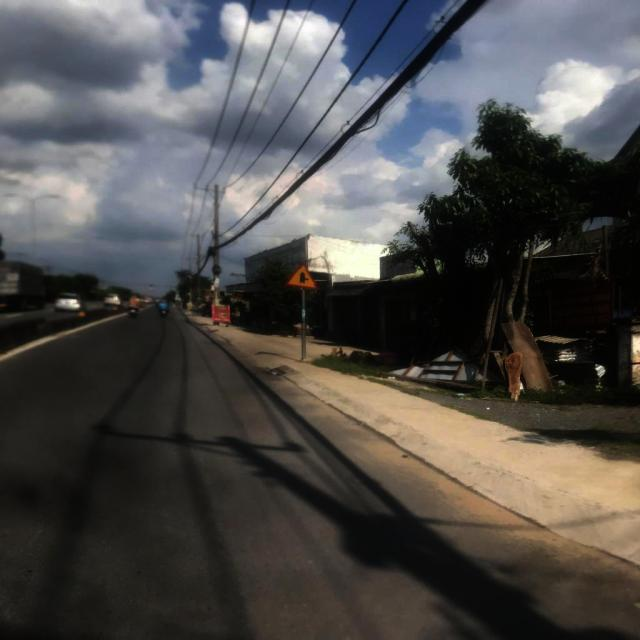giao_nhau_voi_duong_khong_uu_tien: (284, 261, 324, 290)
